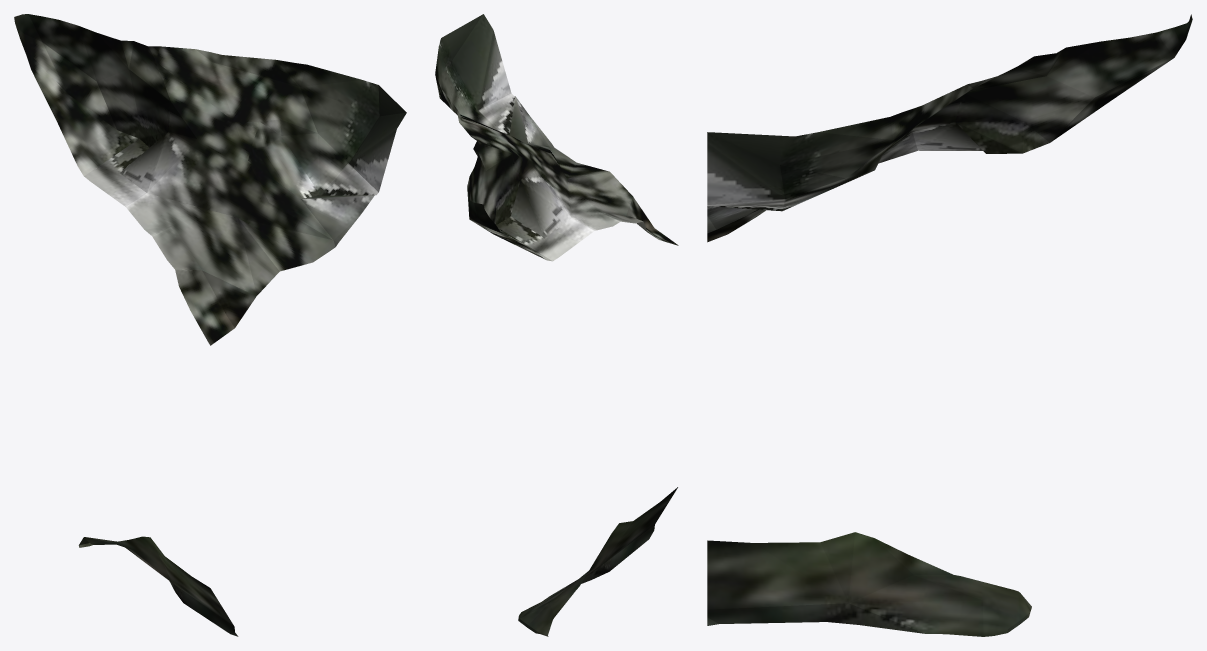
3 renders of one model, left to right at view 1: azimuth 30°, elevation 25°; view 2: azimuth 150°, elevation 25°; view 3: azimuth 270°, elevation 25°, orthographic. The views are drawn at different scales.
Bounding box in the file's own units: 0.739 × 1.67 × 1.24.
1 material, 1 textured.
